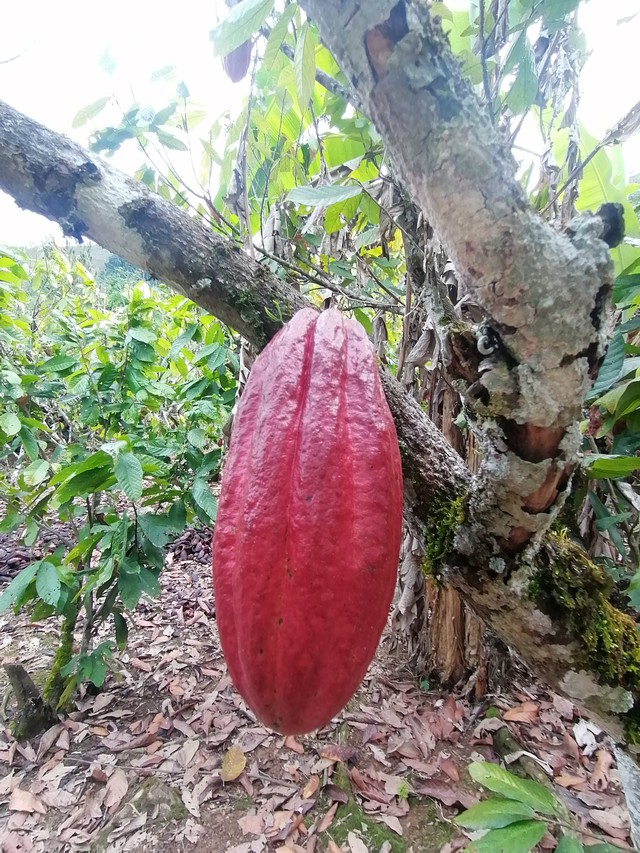Health: (202, 303, 413, 740)
